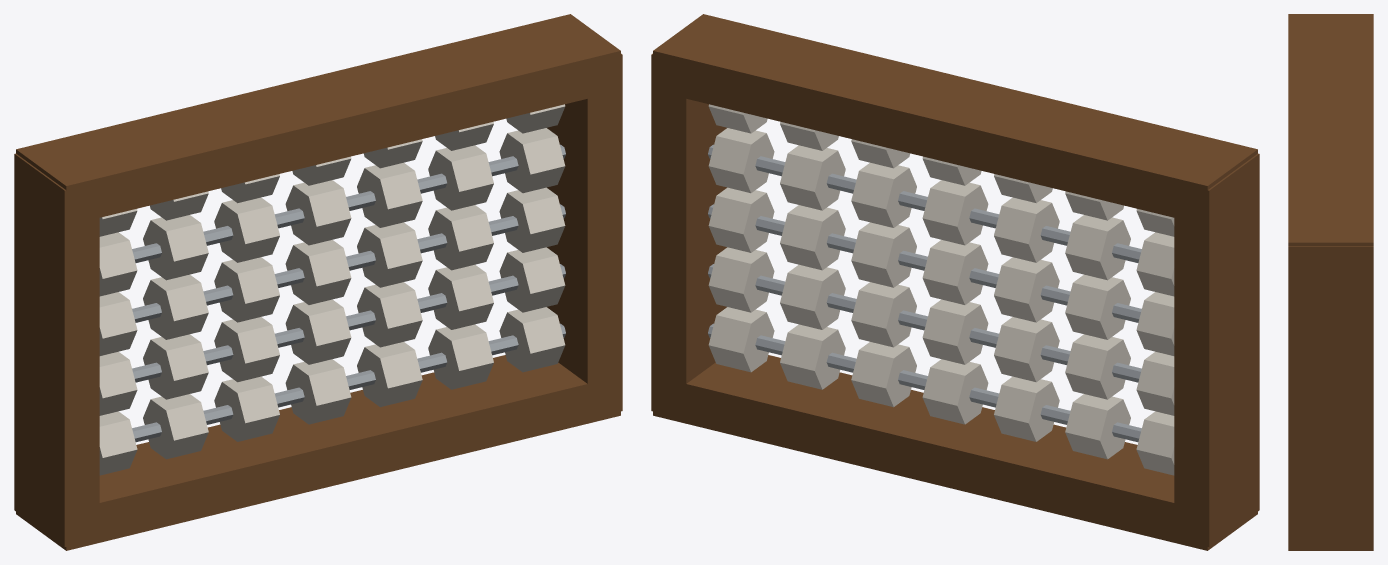
File: abacus.glb
3 views of the same model, side by side, from view 1: azimuth 30°, elevation 25°; view 2: azimuth 150°, elevation 25°; view 3: azimuth 270°, elevation 25° (orthographic). The views are drawn at different scales.
Parts seen in each view (by area): view 1: abacus; view 2: abacus; view 3: abacus.
Part boxes in pixels (left/top/right/bottom): abacus: left=14, top=14, right=622, bottom=550; abacus: left=651, top=14, right=1259, bottom=550; abacus: left=1288, top=14, right=1373, bottom=550.
Size of the model in its own units: 0.352 by 0.22 by 0.055.
